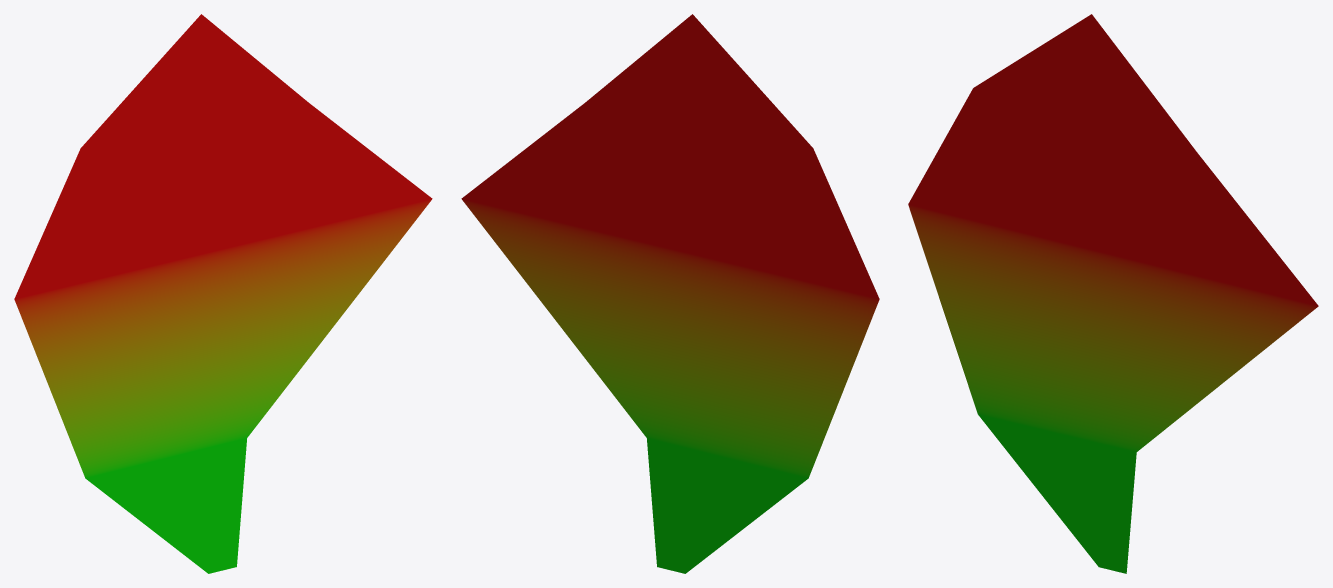
The model's file is Sea Wheatgrass_LOD3_Var4_ui2oagjia.fbx.
The picture shows the model from 3 angles, left to right: view 1: azimuth 30°, elevation 25°; view 2: azimuth 150°, elevation 25°; view 3: azimuth 330°, elevation 25°; orthographic projection.
Parts seen in each view (by area): view 1: _9cec_Var4_LOD3; view 2: _9cec_Var4_LOD3; view 3: _9cec_Var4_LOD3.
Boxes of the visible parts, bbox=[...] form: _9cec_Var4_LOD3: bbox=[14, 14, 432, 573]; _9cec_Var4_LOD3: bbox=[461, 14, 879, 573]; _9cec_Var4_LOD3: bbox=[908, 14, 1318, 573].
Bounding box in the file's own units: 54.19 × 69.53 × 3.04e-06.
